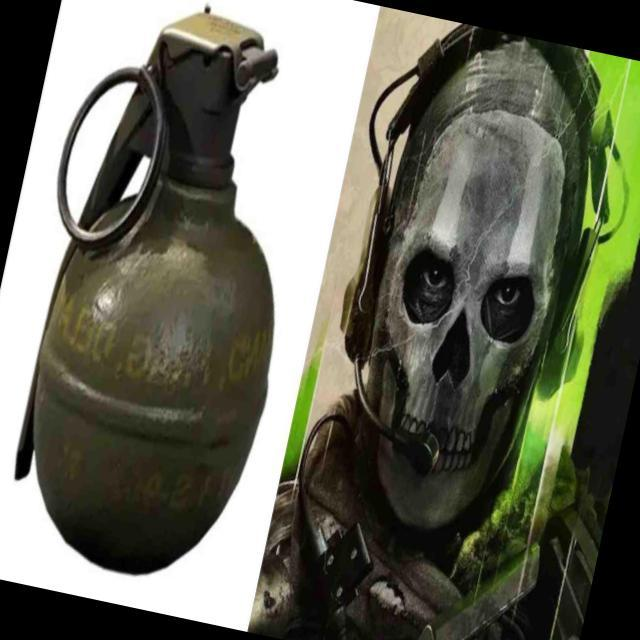grenade: (0, 0, 333, 594)
